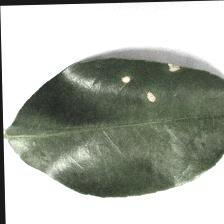canker: (110, 50, 195, 106)
